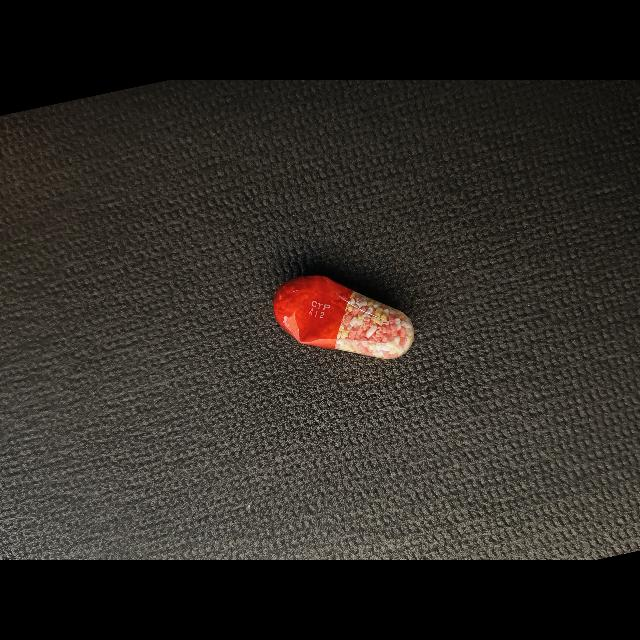Defective Capsule: (274, 275, 414, 359)
